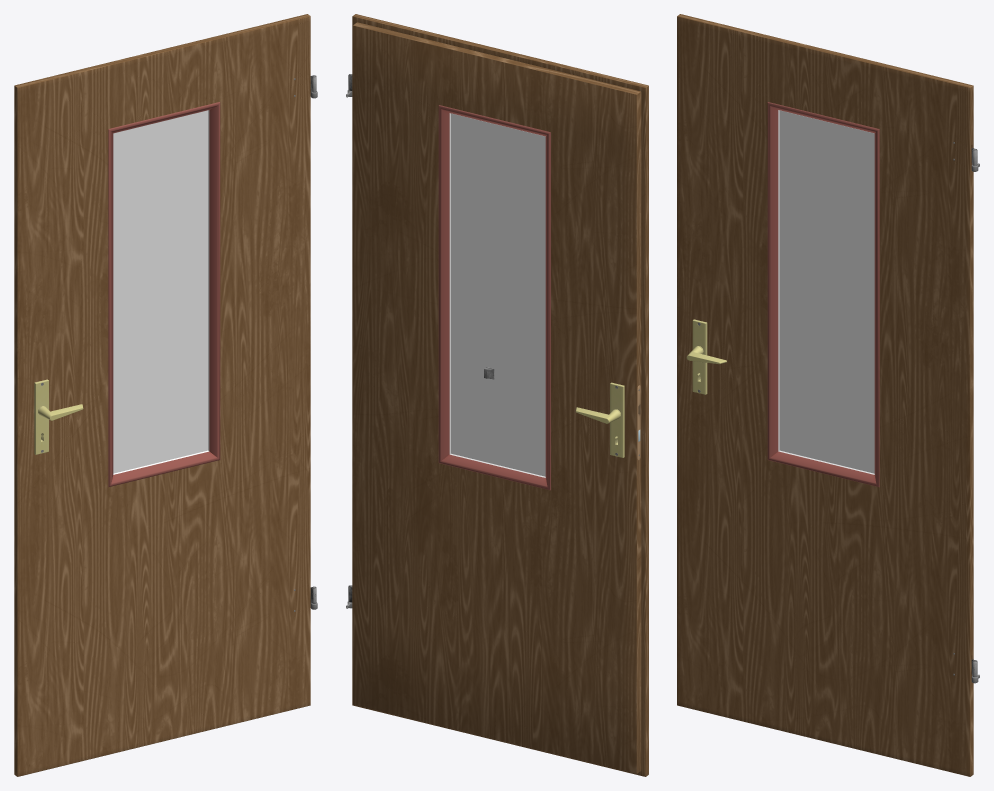
Rendered from simple_wood_door.glb.
The picture shows the model from 3 angles, left to right: view 1: azimuth 30°, elevation 25°; view 2: azimuth 150°, elevation 25°; view 3: azimuth 330°, elevation 25°; orthographic projection.
Parts seen in each view (by area): view 1: #DOR0001_Door_2; view 2: #DOR0001_Door_2; view 3: #DOR0001_Door_2.
Boxes of the visible parts, x1,y1,x2,y2 form: #DOR0001_Door_2: (14, 14, 316, 776); #DOR0001_Door_2: (348, 14, 648, 776); #DOR0001_Door_2: (677, 14, 977, 776).
Bounding box in the file's own units: 0.9005 × 1.98 × 0.158.
Materials: 12 (11 with a texture image).
